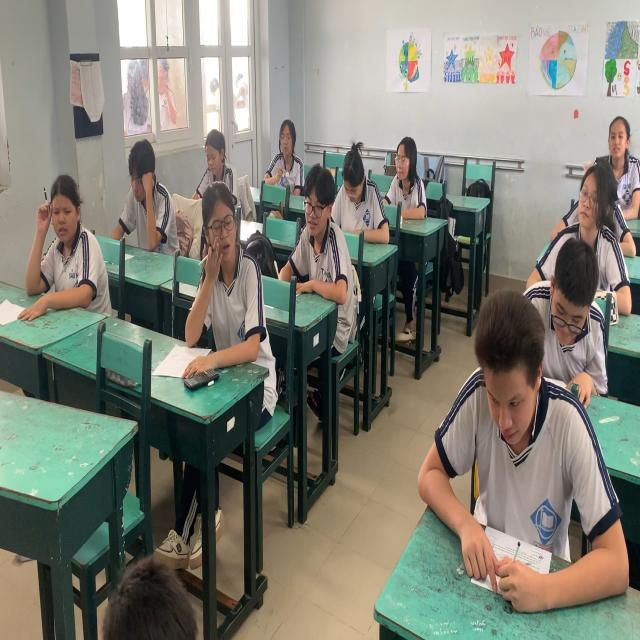cheating: (193, 178, 264, 377)
not_cheating: (422, 295, 582, 589), (28, 170, 103, 305), (335, 136, 397, 250), (541, 247, 590, 385), (119, 143, 183, 246), (300, 157, 340, 305), (597, 109, 640, 232), (389, 132, 430, 222), (576, 164, 606, 260), (264, 118, 306, 184), (191, 115, 232, 174)
